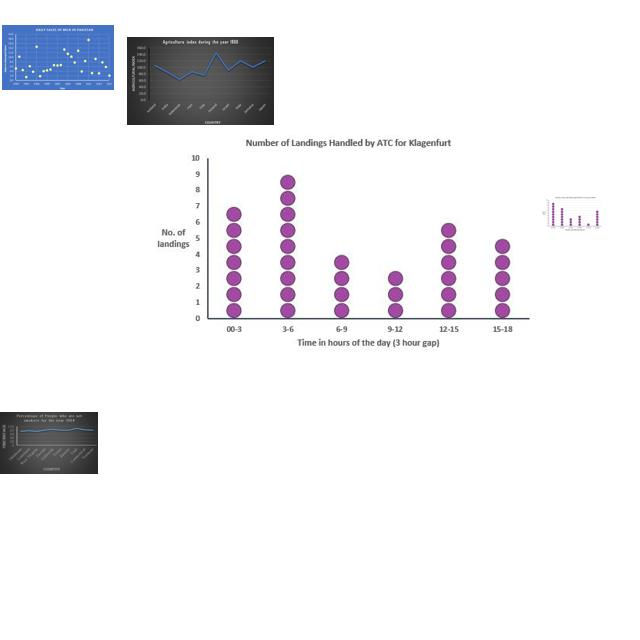Graph: (144, 129, 538, 358), (127, 37, 274, 125), (2, 25, 114, 90), (0, 412, 98, 474), (540, 196, 603, 232)
